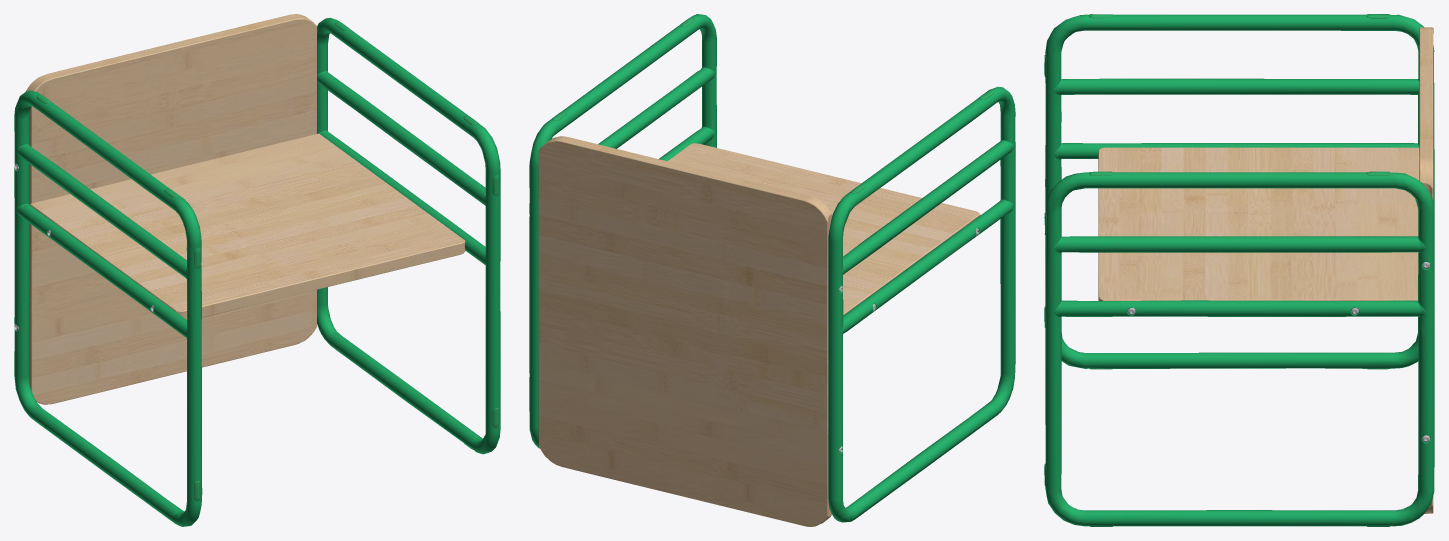
3 renders of one model, left to right at view 1: azimuth 30°, elevation 25°; view 2: azimuth 150°, elevation 25°; view 3: azimuth 270°, elevation 25°, orthographic. The views are drawn at different scales.
Parts seen in each view (by area): view 1: ASY_ART_60569744_S01_NV01; view 2: ASY_ART_60569744_S01_NV01; view 3: ASY_ART_60569744_S01_NV01.
Part boxes in pixels (x1,y1,x2,y2): ASY_ART_60569744_S01_NV01: (14, 14, 500, 526); ASY_ART_60569744_S01_NV01: (529, 14, 1015, 526); ASY_ART_60569744_S01_NV01: (1044, 14, 1434, 526).
Size of the model in its own units: 0.3909 by 0.3925 by 0.3918.
1 material, 1 textured.
